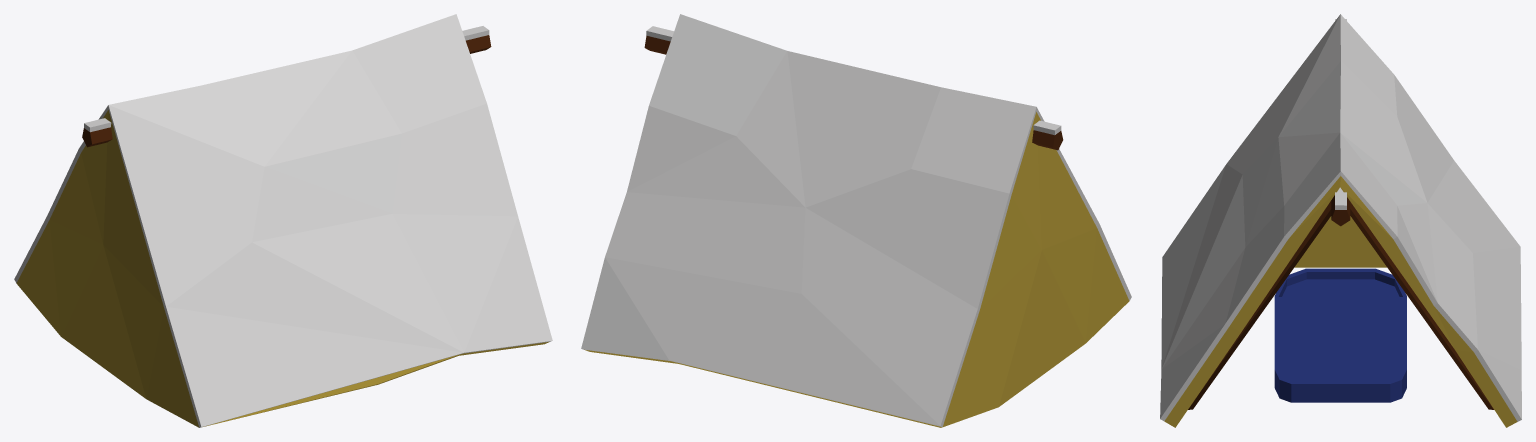
File: Tent.fbx
The picture shows the model from 3 angles, left to right: view 1: azimuth 30°, elevation 25°; view 2: azimuth 150°, elevation 25°; view 3: azimuth 270°, elevation 25°; orthographic projection. The views are drawn at different scales.
Visible parts, largest first — view 1: Snow, Tent; view 2: Snow, Tent; view 3: Snow, Sleeping_Bag, Tent.
Part boxes in pixels (left/top/right/bottom): Snow: left=14, top=14, right=552, bottom=427; Tent: left=16, top=35, right=549, bottom=427; Snow: left=581, top=14, right=1131, bottom=426; Tent: left=584, top=35, right=1129, bottom=427; Snow: left=1160, top=14, right=1521, bottom=421; Sleeping_Bag: left=1274, top=268, right=1406, bottom=402; Tent: left=1164, top=176, right=1517, bottom=427.
Bounding box in the file's own units: 544 × 348 × 446.
